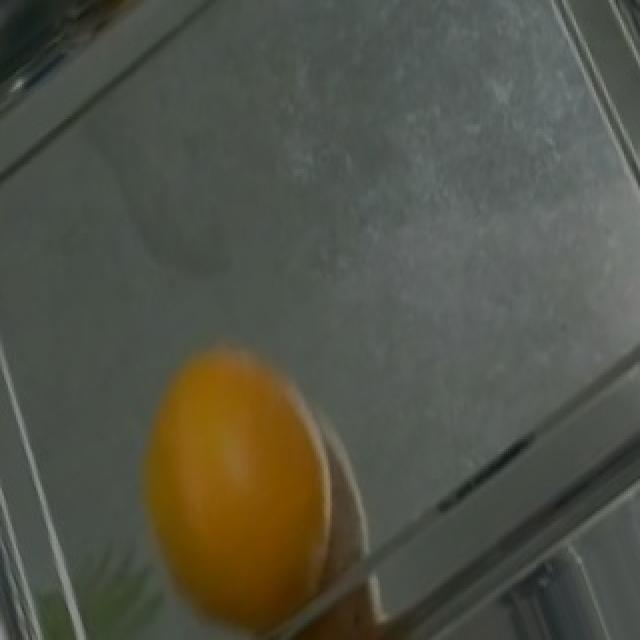Fruit: (112, 315, 350, 640)
